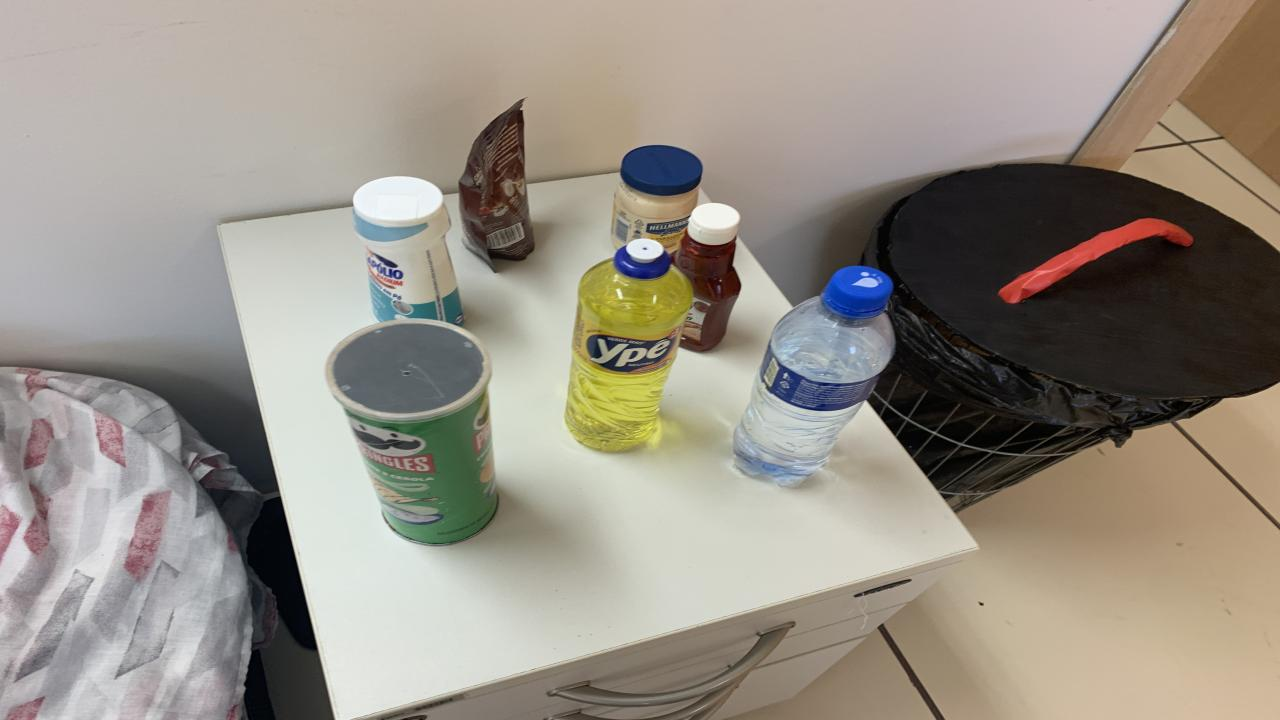Cleaner-Cleanup_Items: (352, 176, 462, 324)
Coffee-Pantry_Items: (458, 99, 535, 270)
Detergent-Cleanup_Items: (565, 238, 692, 452)
Ketchup-Pantry_Items: (675, 202, 740, 352)
Mayonnaise-Pantry_Items: (610, 144, 702, 253)
Pringles-Snacks: (325, 319, 498, 546)
Water_Bottle-Drinks: (735, 266, 895, 486)
